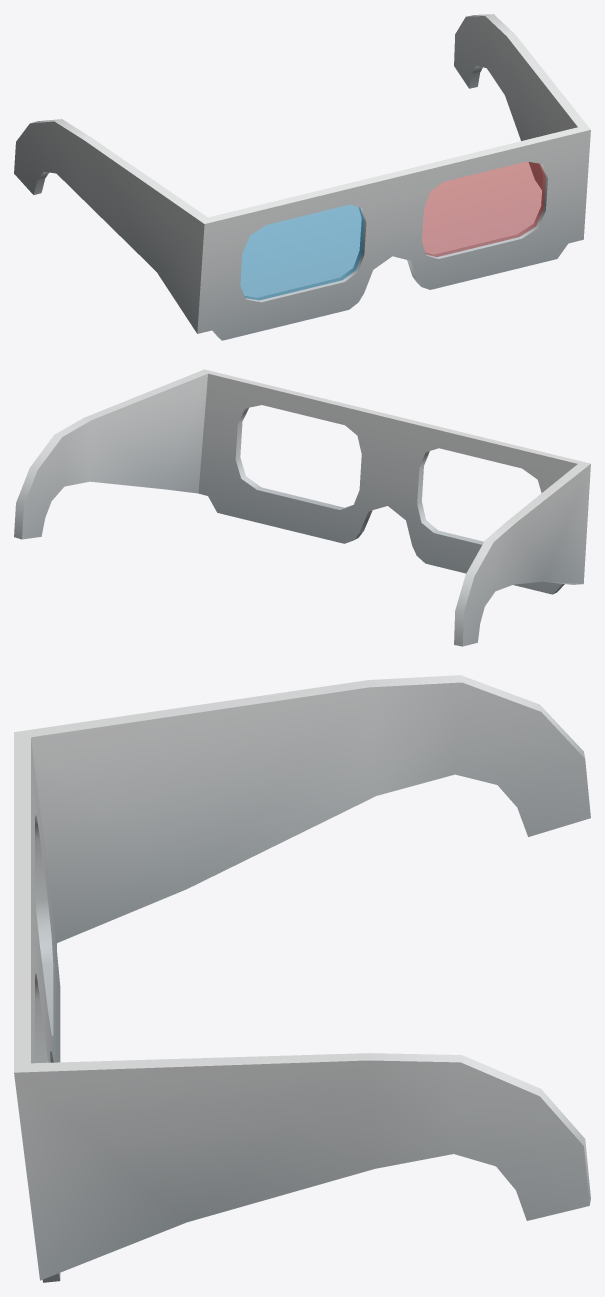
The model's file is Glasses_14.glb.
3 views of the same model, one above another, from view 1: azimuth 30°, elevation 25°; view 2: azimuth 150°, elevation 25°; view 3: azimuth 270°, elevation 25° (orthographic). The views are drawn at different scales.
Visible parts, largest first — view 1: Glasses_14; view 2: Glasses_14; view 3: Glasses_14.
Part boxes in pixels (bbox=[...]): Glasses_14: bbox=[14, 14, 590, 340]; Glasses_14: bbox=[14, 369, 590, 646]; Glasses_14: bbox=[14, 675, 590, 1282].
Size of the model in its own units: 0.5942 by 0.1867 by 0.3665.
2 materials, 2 textured.
